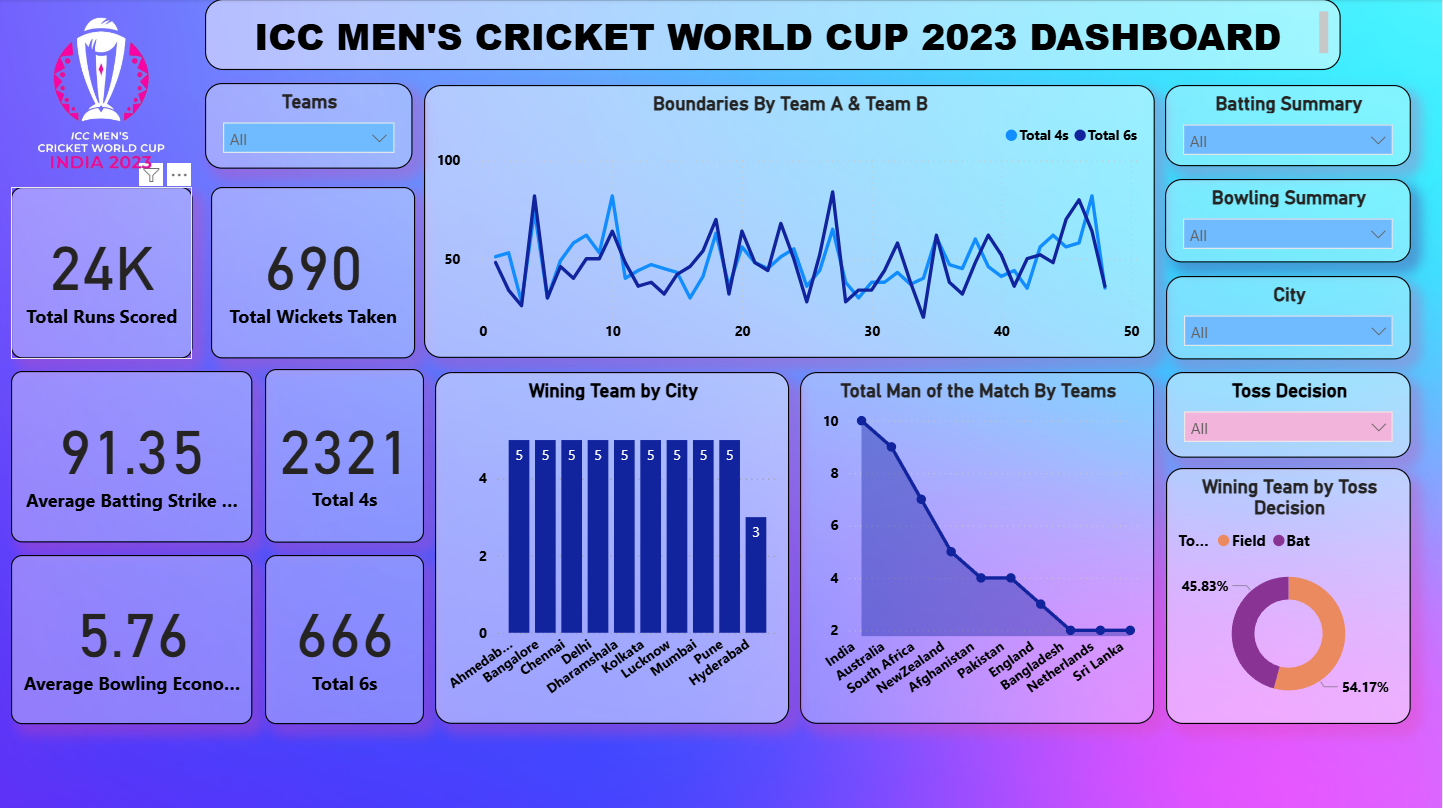

The page's visual inventory and layout, read from the dashboard file:
{"tool":"powerbi","page":{"name":"Overall","canvas":[1280,720],"ordinal":0},"visuals":[{"type":"card","fields":{"Values":["All Measures.Total Wickets Taken"]},"box":[188.9,166.7,181.1,152.2],"z":0},{"type":"card","fields":{"Values":["All Measures.Total Runs Scored"]},"box":[11.1,166.7,161.1,152.2],"z":1000},{"type":"card","fields":{"Values":["All Measures.Average Batting Strike Rate"]},"box":[11.1,330,214.4,152.2],"z":2000},{"type":"card","fields":{"Values":["All Measures.Average Bowling Economy"]},"box":[11.1,493.3,214.4,150],"z":3000},{"type":"slicer","title":"Batting Summary","fields":{"Values":["batting_summary.Batsman_Name"]},"box":[1034.4,76.7,217.8,72.2],"z":4000},{"type":"slicer","title":"Bowling Summary","fields":{"Values":["bowling_summary.Bowler_Name"]},"box":[1034.4,160,217.8,74.4],"z":5000},{"type":"slicer","title":"City","fields":{"Values":["match_schedule_results.Venue"]},"box":[1035.7,245.6,217.2,73.6],"z":6000},{"type":"lineChart","title":"Boundaries By Team A & Team B","fields":{"Category":["match_schedule_results.Match_no"],"Y":["All Measures.Total 4s"],"Y2":["All Measures.Total 6s"]},"box":[377.8,76.7,647.8,242.2],"z":7000},{"type":"areaChart","title":"Total Man of the Match By Teams","fields":{"Category":["CWC2023.Wining Team"],"Y":["CWC2023.Man of the Match"]},"box":[711.1,331.1,314.4,312.2],"z":8000},{"type":"slicer","title":"Toss Decision","fields":{"Values":["CWC2023.Toss Decision"]},"box":[1035.7,330.7,217.2,76.3],"z":9000},{"type":"donutChart","title":"Wining Team by Toss Decision","fields":{"Category":["CWC2023.Toss Decision"],"Y":["CWC2023.Wining Team"]},"box":[1035.7,415.9,217.2,227],"z":10000},{"type":"textbox","box":[183.3,0,1006.7,63.3],"z":11000},{"type":"image","box":[0,0,183.3,166.7],"z":12000},{"type":"slicer","title":"Teams","fields":{"Values":["CWC2023.Wining Team"]},"box":[183.5,74.5,183.5,76.3],"z":13000},{"type":"card","fields":{"Values":["All Measures.Total 4s"]},"box":[236.7,327.8,141.1,154.4],"z":14000},{"type":"card","fields":{"Values":["All Measures.Total 6s"]},"box":[236.7,493.3,141.1,150],"z":15000},{"type":"columnChart","title":"Wining Team by City","fields":{"Y":["CWC2023.Wining Team"],"Category":["CWC2023.City"]},"box":[387.8,331.1,314.4,312.2],"z":16000}]}

Visuals, with their boxes in screenshot pixels (x1, y1, x2, y2), scaled from the page's 1280x720 canvas onto the 1443x808 screenshot:
card - All Measures.Total Wickets Taken: 213,187,417,358
card - All Measures.Total Runs Scored: 13,187,194,358
card - All Measures.Average Batting Strike Rate: 13,370,254,541
card - All Measures.Average Bowling Economy: 13,554,254,722
"Batting Summary" slicer: 1166,86,1412,167
"Bowling Summary" slicer: 1166,180,1412,263
"City" slicer: 1168,276,1412,358
"Boundaries By Team A & Team B" lineChart: 426,86,1156,358
"Total Man of the Match By Teams" areaChart: 802,372,1156,722
"Toss Decision" slicer: 1168,371,1412,457
"Wining Team by Toss Decision" donutChart: 1168,467,1412,721
textbox: 207,0,1342,71
image: 0,0,207,187
"Teams" slicer: 207,84,414,169
card - All Measures.Total 4s: 267,368,426,541
card - All Measures.Total 6s: 267,554,426,722
"Wining Team by City" columnChart: 437,372,792,722
